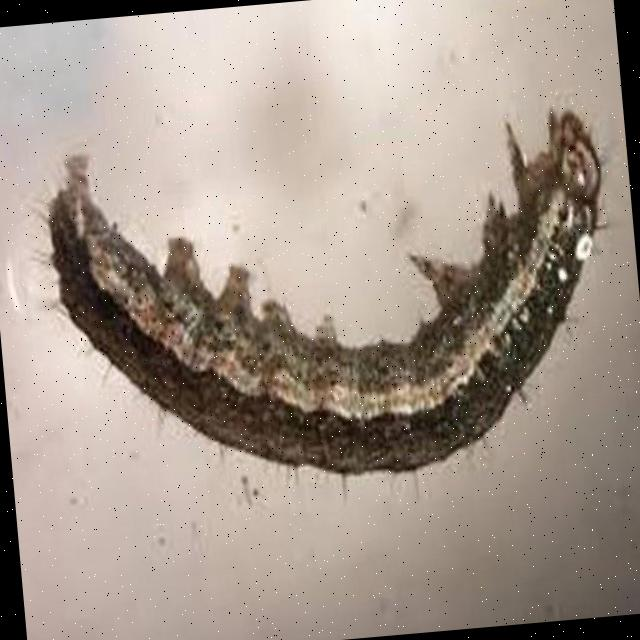worm: (34, 103, 631, 509)
